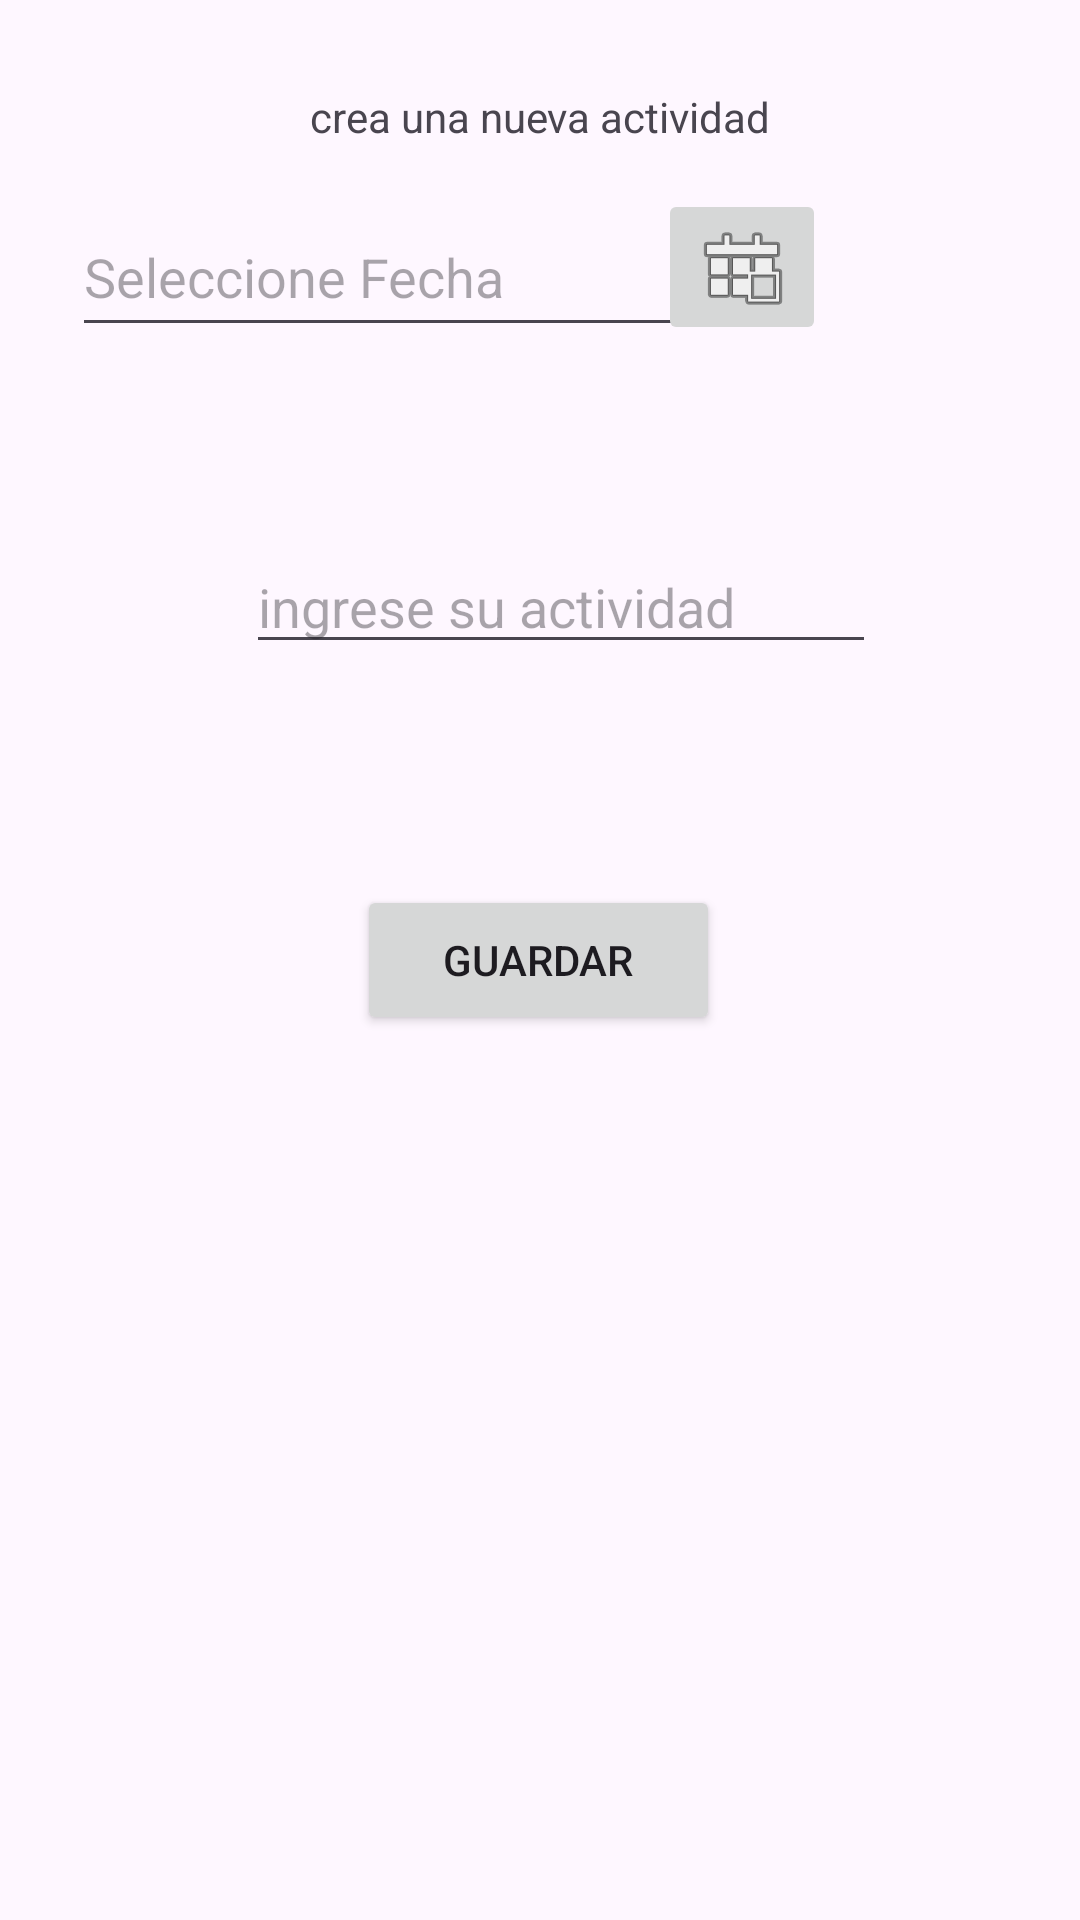

Where icons sit on this 1080w x 1920h app screen, as (x1, y1, x2, y2):
today: (658, 207, 814, 327)
